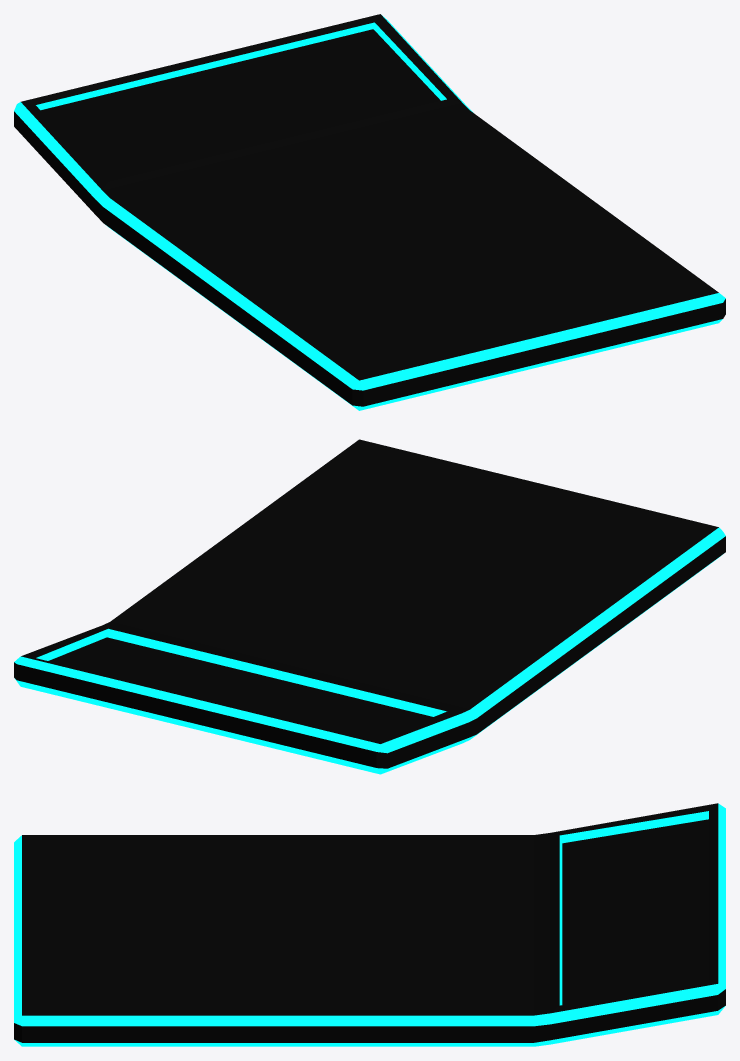
File: Calculator.fbx
The picture shows the model from 3 angles, top to bottom: view 1: azimuth 30°, elevation 25°; view 2: azimuth 150°, elevation 25°; view 3: azimuth 270°, elevation 25°; orthographic projection. The views are drawn at different scales.
Parts seen in each view (by area): view 1: Calculator; view 2: Calculator; view 3: Calculator.
Part boxes in pixels (<box>): Calculator: <box>14,14,725,410</box>; Calculator: <box>14,439,725,774</box>; Calculator: <box>14,803,725,1046</box>.
Bounding box in the file's own units: 200 × 31.36 × 321.
